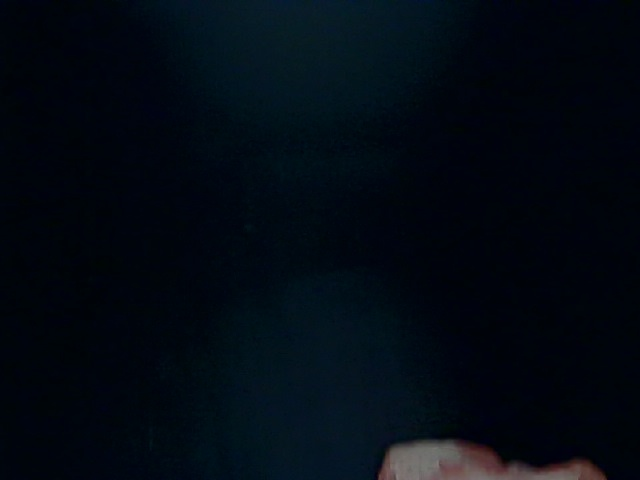KHSLJ: (55, 24, 346, 344)
